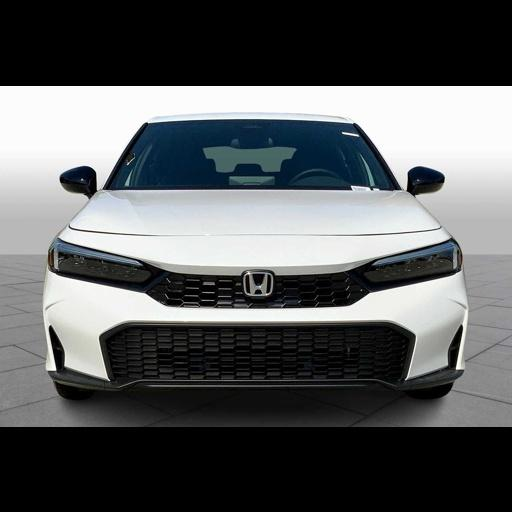hatchback: (44, 114, 467, 399)
